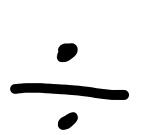div: (10, 42, 129, 130)
